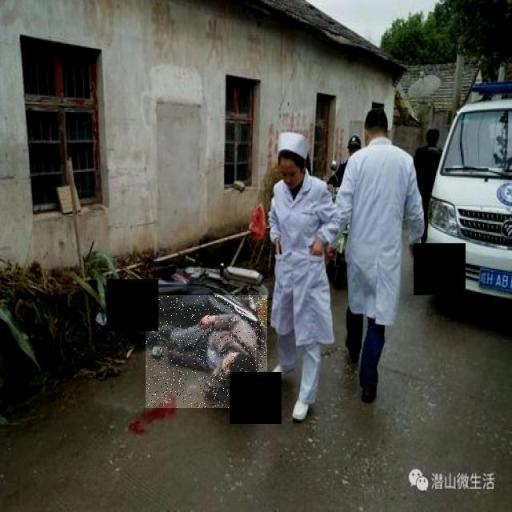Fall: (146, 295, 267, 408)
